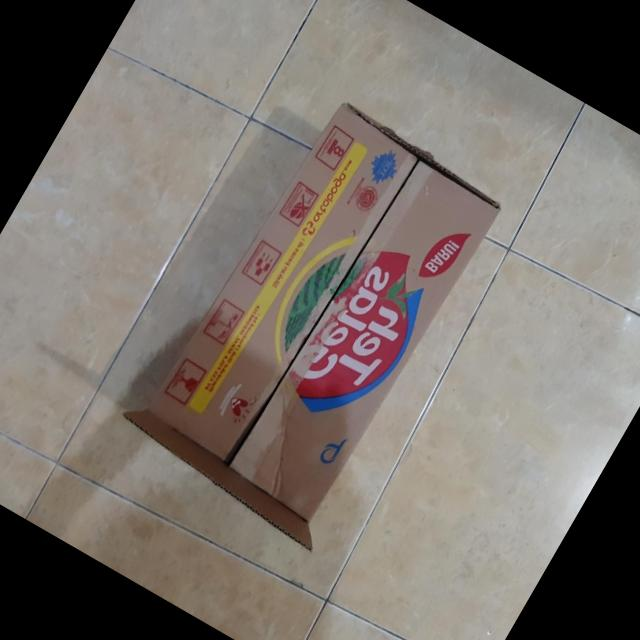Kardus: (119, 83, 512, 540)
